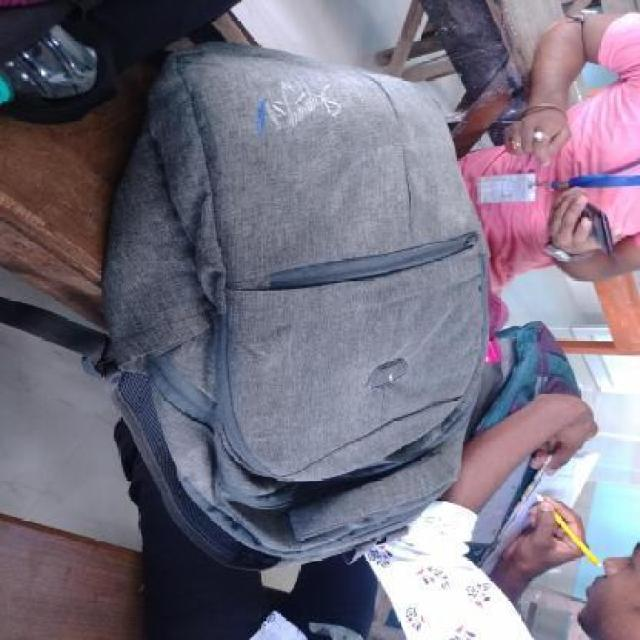backpack: (90, 35, 496, 577)
